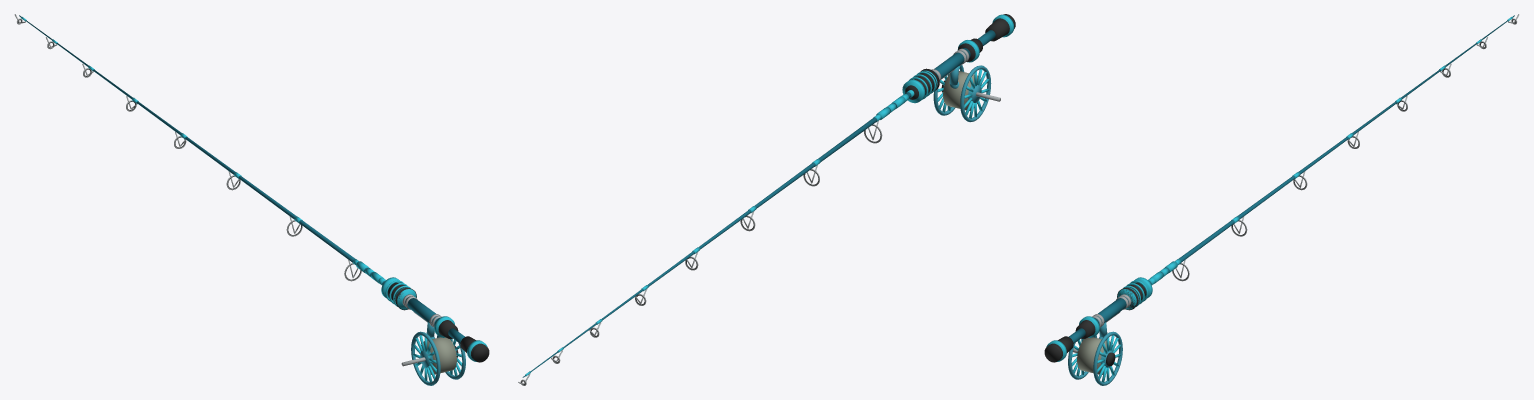
The model's file is kingfisher_fly.glb.
The picture shows the model from 3 angles, left to right: view 1: azimuth 30°, elevation 25°; view 2: azimuth 150°, elevation 25°; view 3: azimuth 330°, elevation 25°; orthographic projection. The views are drawn at different scales.
Parts seen in each view (by area): view 1: Tapered carbon blank.007; view 2: Tapered carbon blank.007; view 3: Tapered carbon blank.007.
Part boxes in pixels (x1,y1,x2,y2): Tapered carbon blank.007: (14,14,489,385); Tapered carbon blank.007: (518,14,1015,385); Tapered carbon blank.007: (1044,14,1519,385).
Size of the model in its own units: 0.124 by 0.156 by 1.91.
